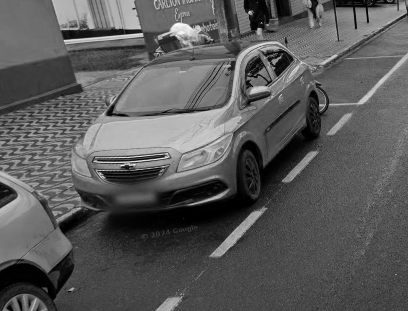car: (65, 39, 323, 219)
